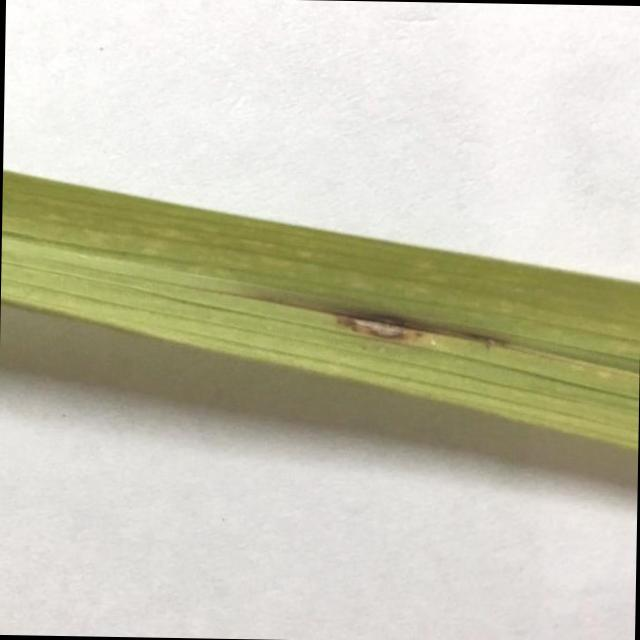Rice_Blast: (298, 241, 464, 370)
